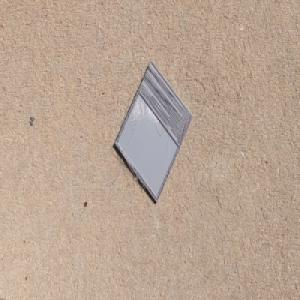PlasticPart: (113, 58, 194, 204)
